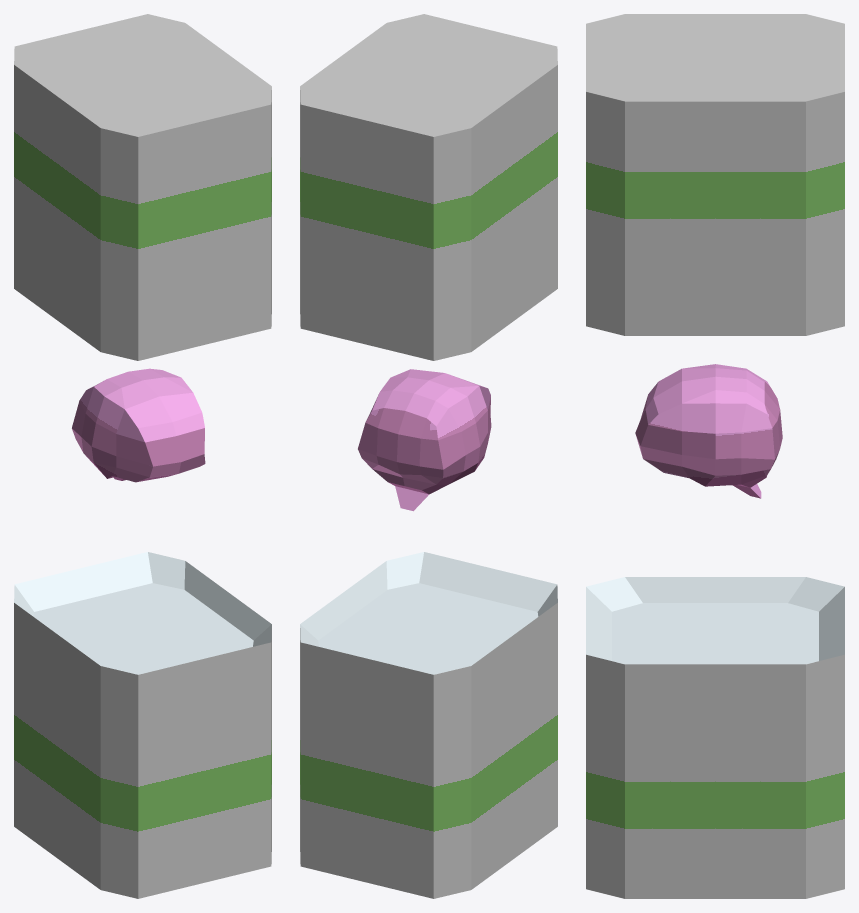
Rendered from brainJar.fbx.
3 views of the same model, side by side, from view 1: azimuth 30°, elevation 25°; view 2: azimuth 150°, elevation 25°; view 3: azimuth 270°, elevation 25° (orthographic). The views are drawn at different scales.
Visible parts, largest first — view 1: cuboid, cuboid_1, cuboid_2; view 2: cuboid, cuboid_1, cuboid_2; view 3: cuboid, cuboid_1, cuboid_2.
Part boxes in pixels (x1,y1,x2,y2): cuboid: (14,552,271,898); cuboid_1: (14,14,271,360); cuboid_2: (72,368,205,482); cuboid: (300,552,557,898); cuboid_1: (300,14,557,360); cuboid_2: (358,369,491,511); cuboid: (586,577,844,898); cuboid_1: (586,14,844,335); cuboid_2: (635,364,782,498).
Bounding box in the file's own units: 50 × 212 × 62.5.
Materials: 1 (1 with a texture image).
